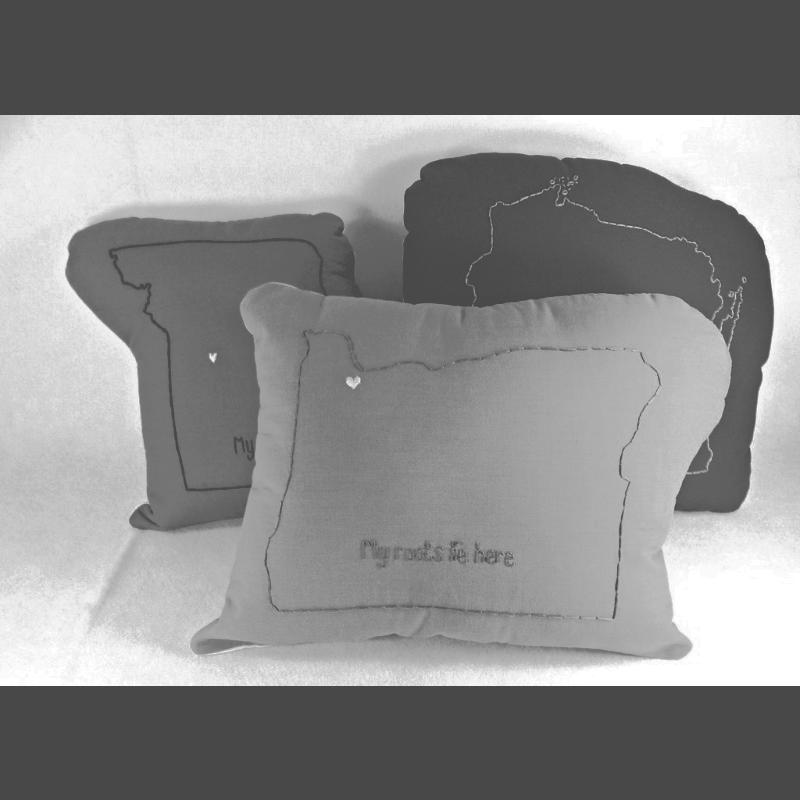pillow: (192, 280, 692, 660), (403, 156, 774, 520), (61, 216, 375, 532)
